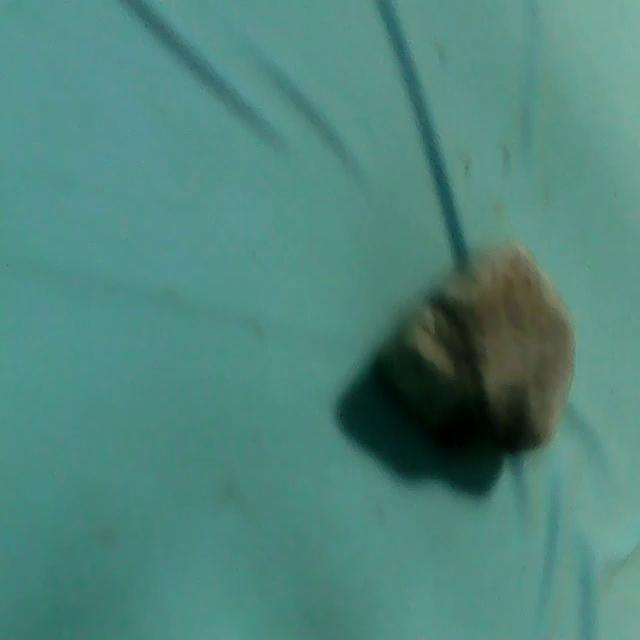rock: (369, 238, 601, 465)
